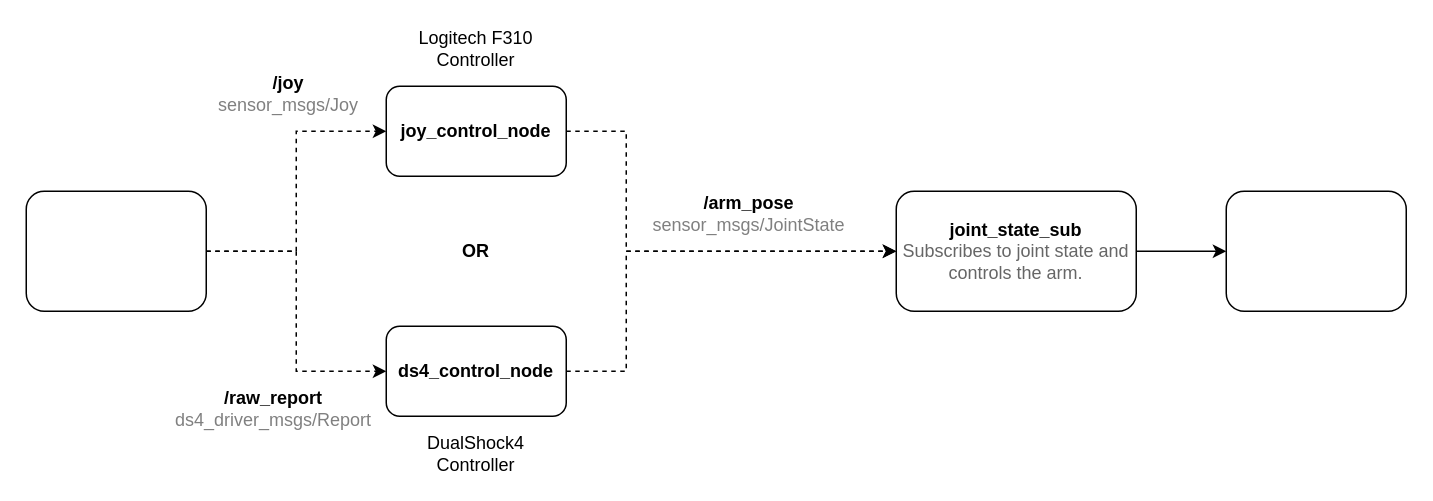
The diagram is 1433 pixels wide and 501 high, and some of its shapes have lost their labels. The shapes that lost their labels are listed below. From the top down, each one's centre as x and y in pixels, then its label:
At [115,250]: "Controller Input".
At [1315,250]: "Arm".
